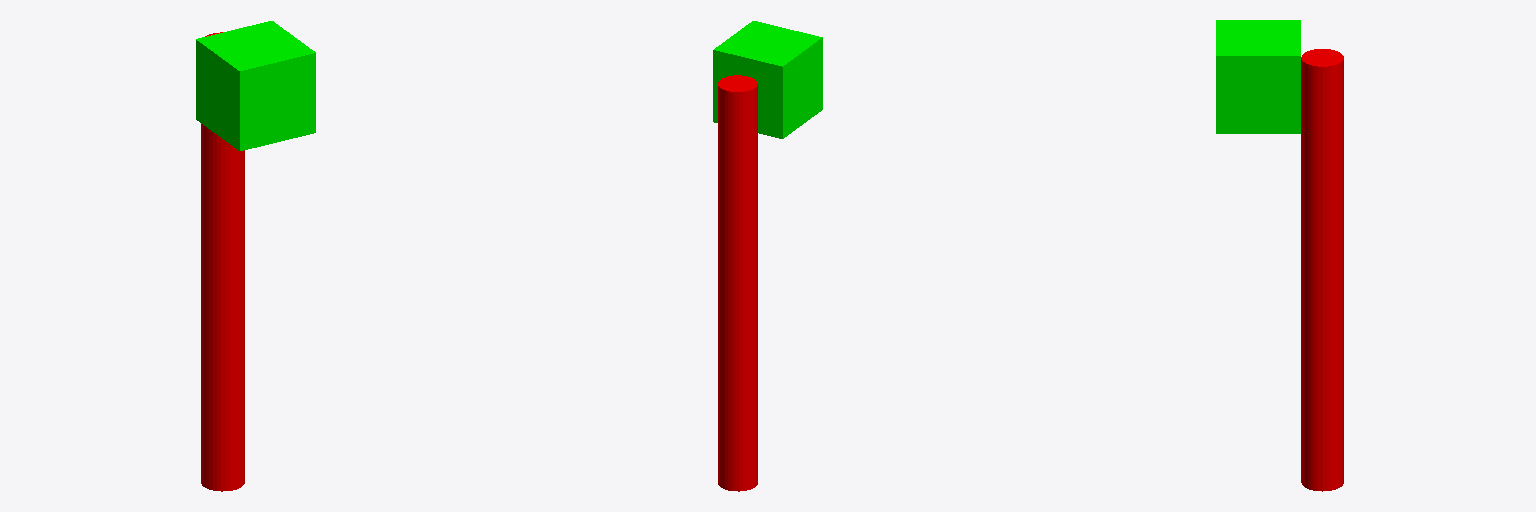
robot.urdf — SimplePendulum:
<?xml version="1.0"?>

<robot name="SimplePendulum">
  <link name="base_link">
    <visual>
      <geometry>
         <box size=".2 .2 .2" />
      </geometry>
      <material name="green">
	       <color rgba="0 1 0 1" />
      </material>
    </visual>
  </link>

  <link name="link">
    <inertial>
      <origin xyz="0 0 -.5" rpy="0 0 0" />
      <mass value="1" />
      <inertia ixx="1" ixy="0" ixz="0" iyy="0.083" iyz="0" izz="1" />
    </inertial>
    <visual>
      <origin xyz="0 0 -.5" rpy="0 0 0" />
      <geometry>
         <cylinder length="1.1" radius=".05" />
      </geometry>
      <material name="red">
	       <color rgba="1 0 0 1" />
      </material>
    </visual>
  </link>

  <joint name="shoulder" type="continuous">
    <parent link="base_link" />
    <child link="link" />
    <origin xyz="0 .15 0" />
    <axis xyz="0 1 0" />
    <dynamics damping="0.1" />
  </joint>

</robot>

--- Facts derived from the render (not from the file) ---
Views: 3 orthographic renders of the robot side by side, from view 1: azimuth 30°, elevation 25°; view 2: azimuth 150°, elevation 25°; view 3: azimuth 270°, elevation 25°.
Model SimplePendulum with 2 links and 1 joints (1 continuous), rooted at base_link, posed all joints at 0.
Links seen in each view (by area): view 1: link, base_link; view 2: link, base_link; view 3: link, base_link.
Link boxes in pixels (left/top/right/bottom): link: left=201, top=32, right=244, bottom=491; base_link: left=196, top=21, right=315, bottom=150; link: left=718, top=75, right=757, bottom=491; base_link: left=713, top=21, right=822, bottom=138; link: left=1301, top=49, right=1343, bottom=491; base_link: left=1216, top=20, right=1300, bottom=133.
Bounding box of the posed robot: 0.2 × 0.3 × 1.15 m (x, y, z).
Geometry: primitives only (box / cylinder / sphere), no mesh files.
